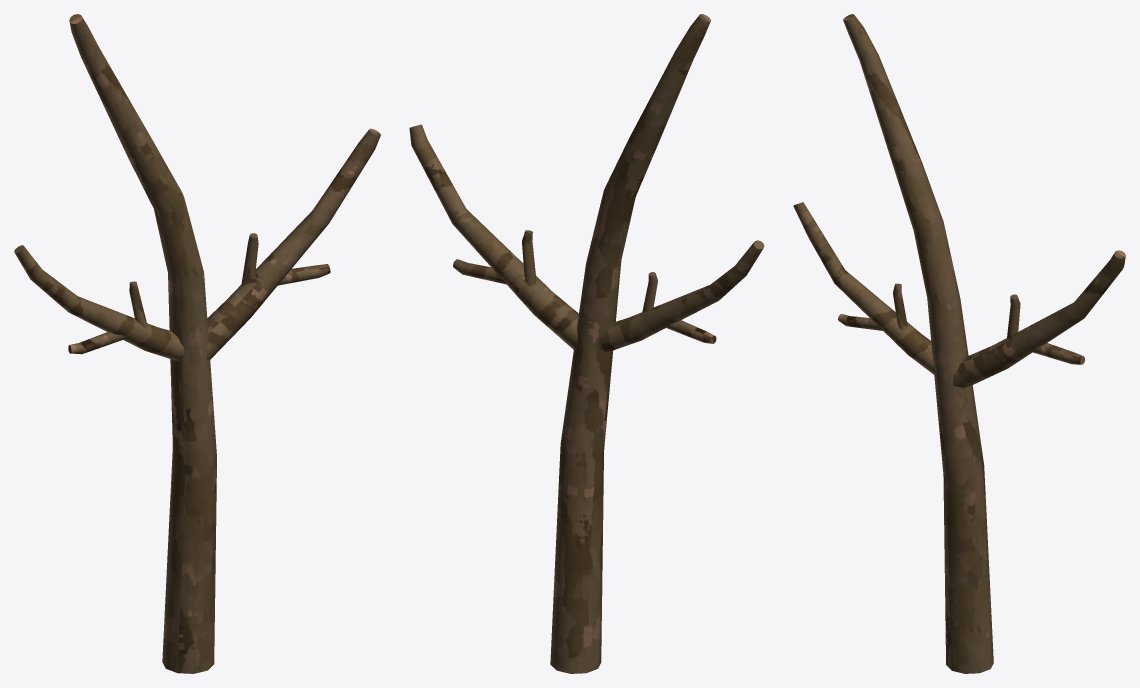
Rendered from DeadTree_2.glb.
3 renders of one model, left to right at view 1: azimuth 30°, elevation 25°; view 2: azimuth 150°, elevation 25°; view 3: azimuth 330°, elevation 25°, orthographic. The views are drawn at different scales.
Visible parts, largest first — view 1: DeadTree_2; view 2: DeadTree_2; view 3: DeadTree_2.
Part boxes in pixels (x1=…): DeadTree_2: x1=14, y1=14, x2=380, y2=673; DeadTree_2: x1=409, y1=14, x2=764, y2=673; DeadTree_2: x1=793, y1=14, x2=1125, y2=673.
Bounding box in the file's own units: 1.45 × 2.62 × 0.2364.
1 material, 1 textured.
